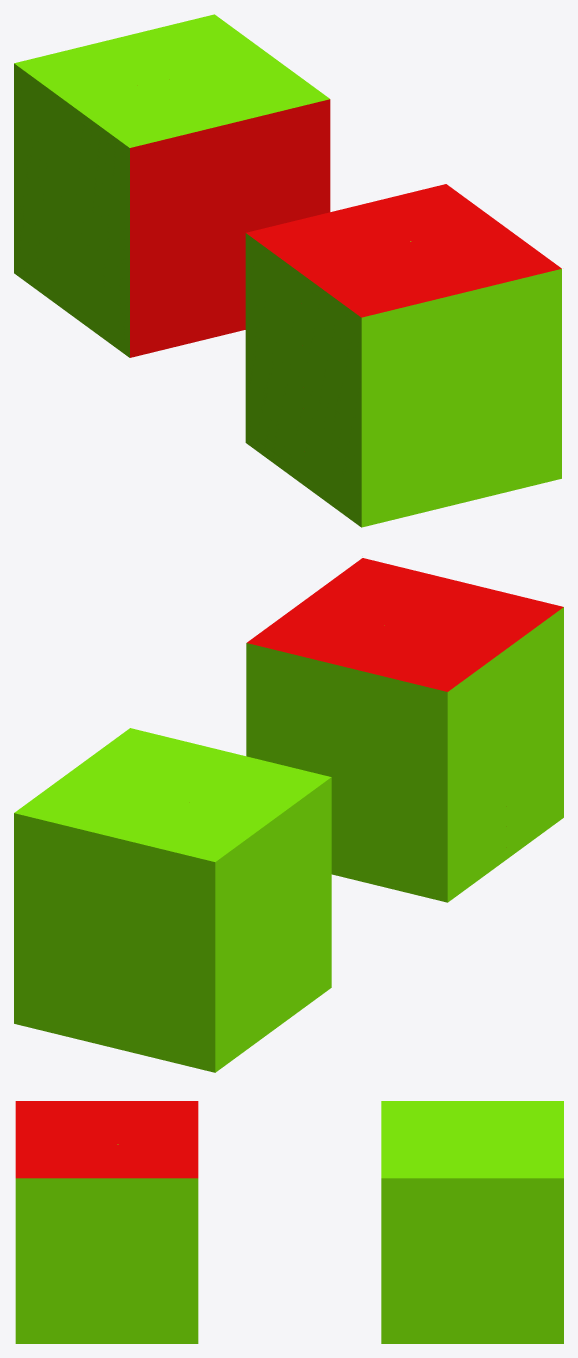
3 views of the same model, one above another, from view 1: azimuth 30°, elevation 25°; view 2: azimuth 150°, elevation 25°; view 3: azimuth 270°, elevation 25° (orthographic). The views are drawn at different scales.
Parts seen in each view (by area): view 1: Box001, Box002; view 2: Box002, Box001; view 3: Box001, Box002.
Part boxes in pixels (bbox=[...]): Box001: bbox=[245, 184, 561, 527]; Box002: bbox=[14, 14, 330, 357]; Box002: bbox=[14, 728, 331, 1072]; Box001: bbox=[246, 558, 563, 902]; Box001: bbox=[15, 1101, 198, 1343]; Box002: bbox=[381, 1101, 563, 1343].
Size of the model in its own units: 1 by 1.01 by 3.01.
